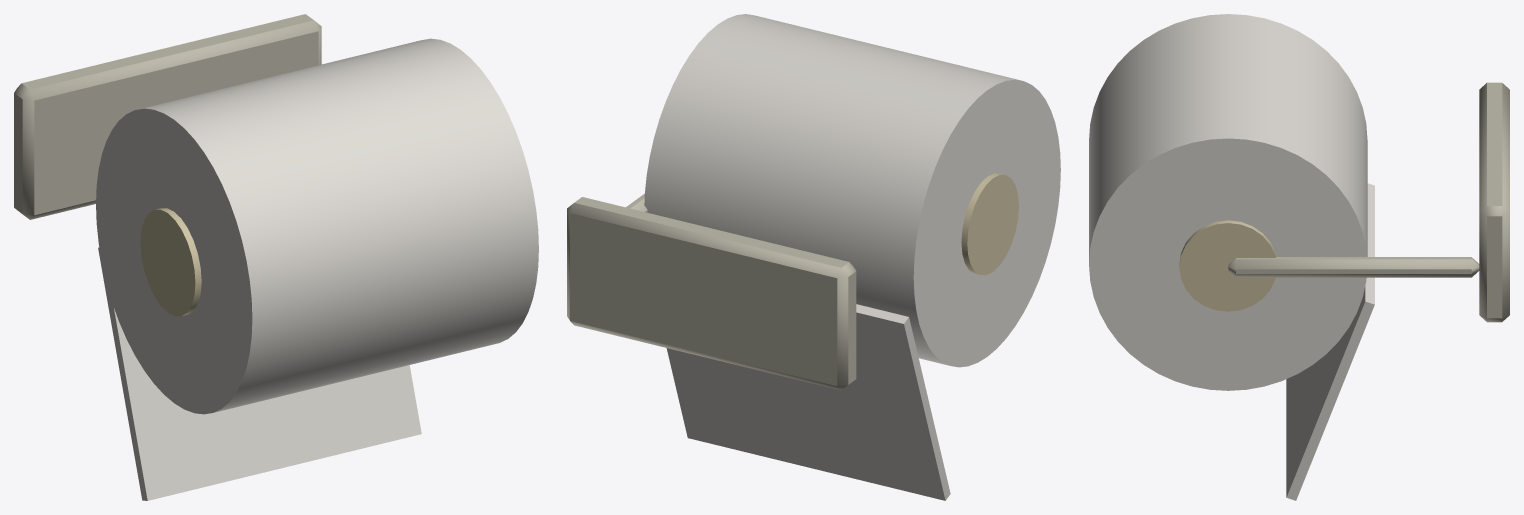
Rendered from GiayVeSinh_Treo.glb.
The picture shows the model from 3 angles, left to right: view 1: azimuth 30°, elevation 25°; view 2: azimuth 150°, elevation 25°; view 3: azimuth 270°, elevation 25°; orthographic projection. The views are drawn at different scales.
Visible parts, largest first — view 1: GiayVeSinh_Treo; view 2: GiayVeSinh_Treo; view 3: GiayVeSinh_Treo.
Boxes of the visible parts, bbox=[...] form: GiayVeSinh_Treo: bbox=[14, 14, 538, 500]; GiayVeSinh_Treo: bbox=[567, 14, 1060, 500]; GiayVeSinh_Treo: bbox=[1089, 14, 1509, 500].
Size of the model in its own units: 0.124 by 0.1573 by 0.1644.
